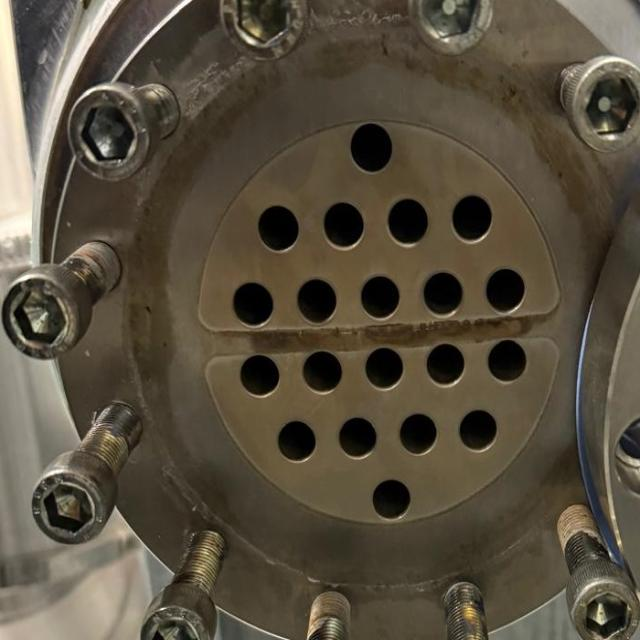Hole: (346, 122, 397, 174), (449, 191, 498, 241), (318, 202, 366, 252), (386, 196, 432, 248), (357, 273, 404, 323), (297, 347, 344, 396), (294, 276, 340, 326), (482, 266, 528, 316), (423, 339, 468, 390), (421, 270, 468, 318), (334, 414, 380, 462), (230, 280, 278, 326), (236, 353, 283, 399), (394, 409, 439, 457), (255, 204, 300, 252), (484, 336, 529, 384), (368, 476, 412, 524), (273, 418, 319, 463), (456, 406, 500, 453), (362, 345, 405, 392)
